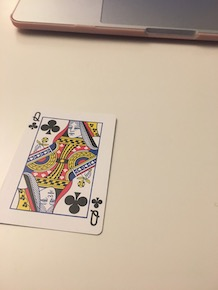QueenOfClubs: (1, 105, 117, 237)
